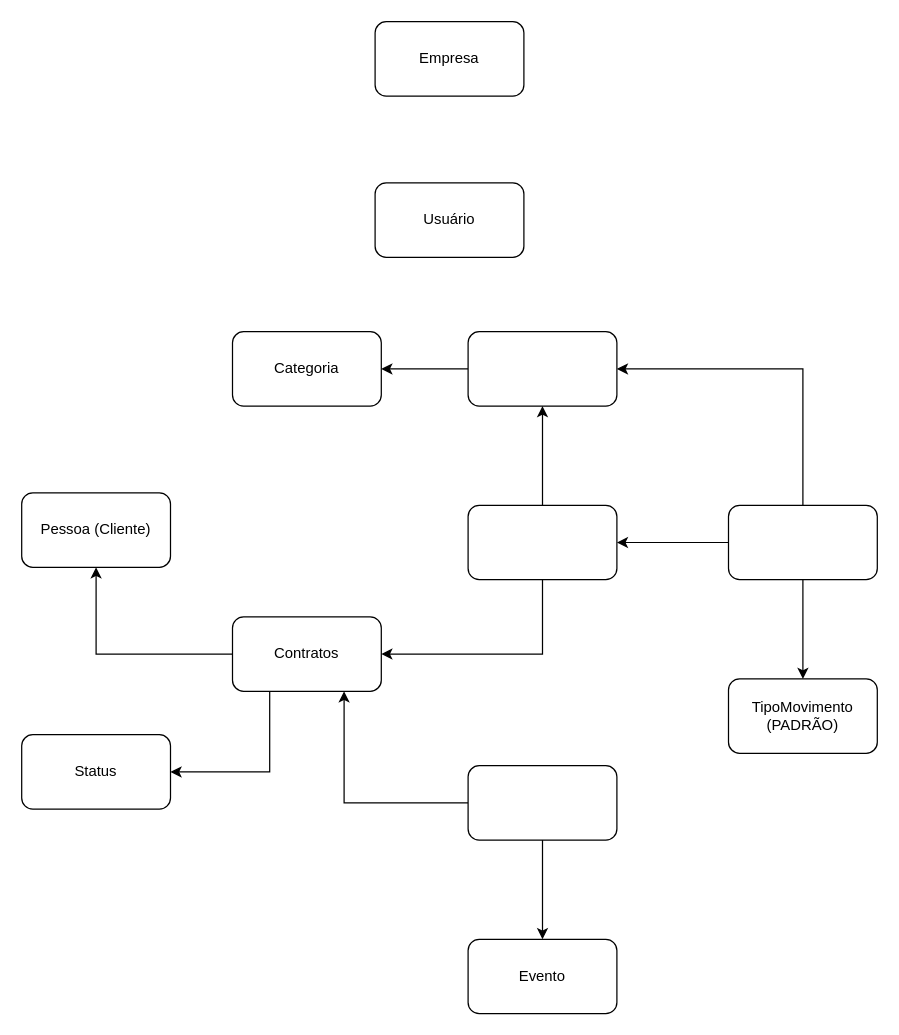
The diagram is 899 pixels wide and 1035 high, and some of its shapes have lost their labels. Each missing label, with the centre of its shape:
ContratoItem: [542,542]
Histórico: [542,802]
Itens: [542,368]
MovimentoEstoque: [802,542]
